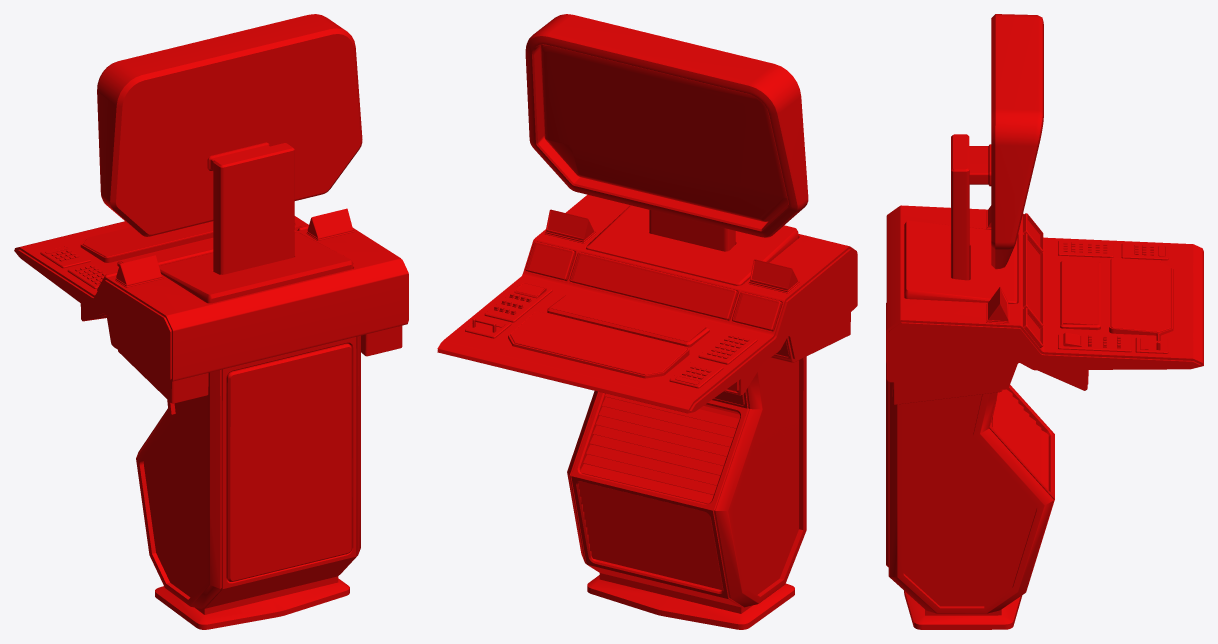
Rendered from Terminal_4.fbx.
3 renders of one model, left to right at view 1: azimuth 30°, elevation 25°; view 2: azimuth 150°, elevation 25°; view 3: azimuth 270°, elevation 25°, orthographic. The views are drawn at different scales.
Parts seen in each view (by area): view 1: L6:pCube56; view 2: L6:pCube56; view 3: L6:pCube56.
Part boxes in pixels (bbox=[...]): L6:pCube56: bbox=[14, 14, 408, 629]; L6:pCube56: bbox=[437, 14, 857, 629]; L6:pCube56: bbox=[886, 14, 1203, 629].
Size of the model in its own units: 74.63 by 149 by 80.82.
